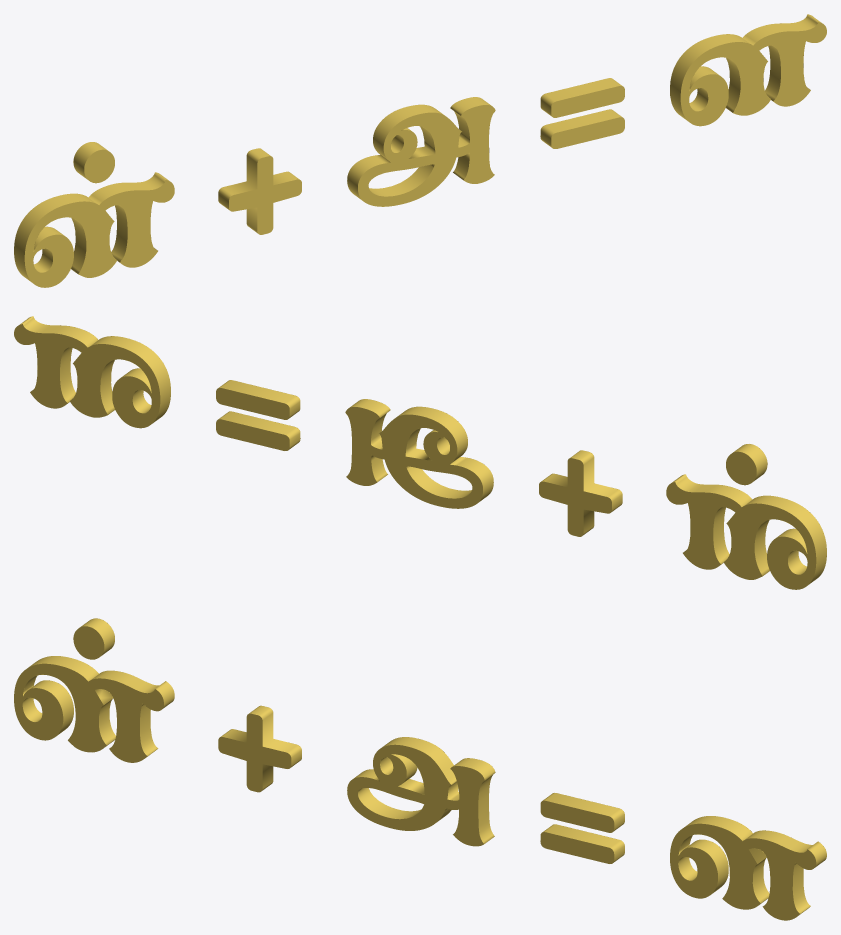
3 renders of one model, top to bottom at view 1: azimuth 30°, elevation 25°; view 2: azimuth 150°, elevation 25°; view 3: azimuth 330°, elevation 25°, orthographic.
Parts seen in each view (by area): view 1: laa; view 2: laa; view 3: laa.
Part boxes in pixels (left/top/right/bottom): laa: left=14, top=14, right=826, bottom=287; laa: left=14, top=316, right=826, bottom=589; laa: left=14, top=618, right=826, bottom=920.
Size of the model in its own units: 0.1861 by 0.0284 by 0.00431.
